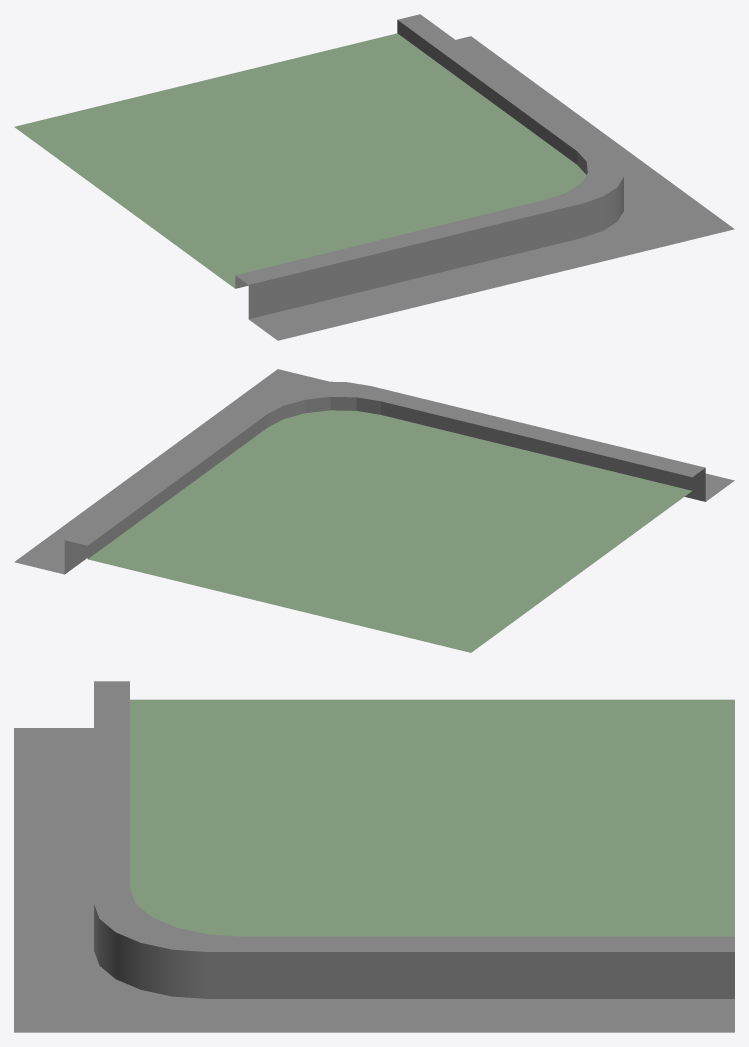
The model's file is park_exteriorCorner_mesh.fbx.
3 renders of one model, top to bottom at view 1: azimuth 30°, elevation 25°; view 2: azimuth 150°, elevation 25°; view 3: azimuth 270°, elevation 25°, orthographic. The views are drawn at different scales.
Visible parts, largest first — view 1: park_exteriorCorner_mesh; view 2: park_exteriorCorner_mesh; view 3: park_exteriorCorner_mesh.
Part boxes in pixels (x1,y1,x2,y2): park_exteriorCorner_mesh: [14, 14, 734, 340]; park_exteriorCorner_mesh: [14, 369, 734, 652]; park_exteriorCorner_mesh: [14, 681, 734, 1032].
Bounding box in the file's own units: 1 × 0.0718 × 1.
